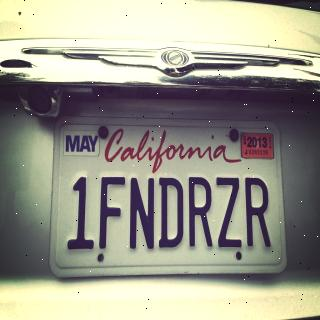license: (50, 117, 288, 280)
